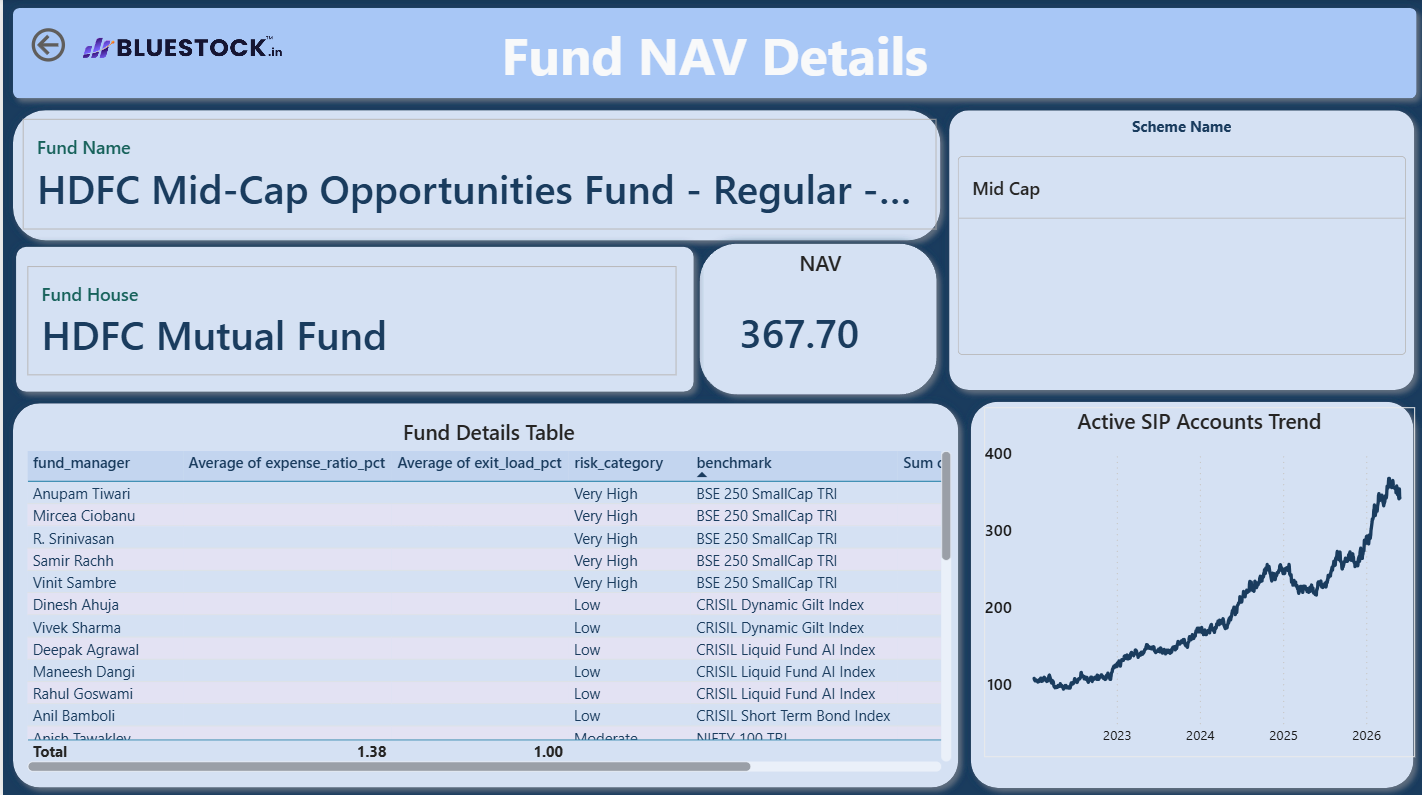

This screenshot's page, from the dashboard's own definition file:
{"tool":"powerbi","page":{"name":"Fund NAV Details","canvas":[1280,720],"ordinal":4},"visuals":[{"type":"shape","box":[0,0,1280.9,99.2],"z":0},{"type":"group","id":"g1","title":"Group 2","box":[0,91.8,852.4,135],"z":0,"group":"g4"},{"type":"shape","box":[0,91.8,852.4,135],"z":0,"group":"g1"},{"type":"group","id":"g2","title":"Group 2","box":[842.7,91.8,436.3,269.7],"z":0,"group":"g7"},{"type":"shape","box":[842.7,91.8,436.3,269.7],"z":0,"group":"g2"},{"type":"shape","box":[617.8,212.3,231.2,153.9],"z":0,"group":"g6"},{"type":"group","id":"g3","title":"Group 1","box":[2.6,214.9,627.4,147.9],"z":0,"group":"g8"},{"type":"shape","box":[2.6,214.9,627.6,148.6],"z":0,"group":"g3"},{"type":"shape","box":[862.5,354.3,416.1,365.5],"z":0,"group":"g5"},{"type":"shape","box":[0,355,868.4,363.7],"z":0,"group":"g9"},{"type":"group","id":"g4","title":"Group 3","box":[0,91.8,852.1,134.8],"z":1000},{"type":"cardVisual","fields":{"Data":["Min(07_scheme_performance_clean.scheme_name)"]},"box":[5.2,92.1,846.6,133.2],"z":1000,"group":"g1"},{"type":"cardVisual","fields":{"Rows":["07_scheme_performance_clean.category"]},"box":[859.8,116.4,403,229.1],"z":1000,"group":"g2"},{"type":"lineChart","title":"Active SIP Accounts Trend","fields":{"Y":["Sum(02_nav_history_clean.nav)"],"Category":["02_nav_history_clean.date"]},"box":[884.1,368.3,387,314.6],"z":1000,"group":"g5"},{"type":"tableEx","title":"Fund Details Table","fields":{"Values":["01_fund_master_clean.fund_manager","Avg(01_fund_master_clean.expense_ratio_pct)","Avg(01_fund_master_clean.exit_load_pct)","01_fund_master_clean.risk_category","01_fund_master_clean.benchmark","Sum(07_scheme_performance_clean.morningstar_rating)","03_aum_by_fund_house_clean.Total AUM"]},"box":[20.5,377,832.3,323.3],"z":1000,"group":"g9"},{"type":"cardVisual","title":"NAV","fields":{"Data":["Max(02_nav_history_clean.nav)"]},"box":[638.4,226,193.1,123.4],"z":2000,"group":"g6"},{"type":"group","id":"g5","title":"Group 4","box":[862.5,354.3,416.7,365.9],"z":2000},{"type":"group","id":"g6","title":"Group 2","box":[617.8,212.3,231.2,153.9],"z":3000},{"type":"group","id":"g7","title":"Group 3","box":[842.7,91.8,436.3,269.7],"z":4000},{"type":"group","id":"g8","title":"Group 5","box":[2.6,214.9,627.4,147.9],"z":5000,"group":"g10"},{"type":"group","id":"g9","title":"Group 4","box":[0,355,868.4,363.7],"z":5000},{"type":"actionButton","box":[20.9,22.6,99.2,40],"z":6000},{"type":"cardVisual","fields":{"Data":["Min(07_scheme_performance_clean.fund_house)"]},"box":[9.3,224.7,608.6,133],"z":6000,"group":"g10"},{"type":"image","box":[71.2,23.2,181.5,40.7],"z":7000},{"type":"group","id":"g10","title":"Group 6","box":[2.6,214.9,627.4,147.9],"z":8000}]}

Visuals, with their boxes in screenshot pixels (x1, y1, x2, y2), scaled from the page's 1280x720 canvas onto the 1422x795 screenshot:
shape: bbox(0, 0, 1421, 110)
"Group 2" group: bbox(0, 101, 947, 250)
shape: bbox(0, 101, 947, 250)
"Group 2" group: bbox(936, 101, 1421, 399)
shape: bbox(936, 101, 1421, 399)
shape: bbox(686, 234, 943, 404)
"Group 1" group: bbox(3, 237, 700, 401)
shape: bbox(3, 237, 700, 401)
shape: bbox(958, 391, 1420, 794)
shape: bbox(0, 392, 965, 794)
"Group 3" group: bbox(0, 101, 947, 250)
cardVisual - Min(07_scheme_performance_clean.scheme_name): bbox(6, 102, 946, 249)
cardVisual - 07_scheme_performance_clean.category: bbox(955, 129, 1403, 381)
"Active SIP Accounts Trend" lineChart: bbox(982, 407, 1412, 754)
"Fund Details Table" tableEx: bbox(23, 416, 947, 773)
"NAV" cardVisual: bbox(709, 250, 924, 386)
"Group 4" group: bbox(958, 391, 1421, 794)
"Group 2" group: bbox(686, 234, 943, 404)
"Group 3" group: bbox(936, 101, 1421, 399)
"Group 5" group: bbox(3, 237, 700, 401)
"Group 4" group: bbox(0, 392, 965, 794)
actionButton: bbox(23, 25, 133, 69)
cardVisual - Min(07_scheme_performance_clean.fund_house): bbox(10, 248, 686, 395)
image: bbox(79, 26, 281, 71)
"Group 6" group: bbox(3, 237, 700, 401)
